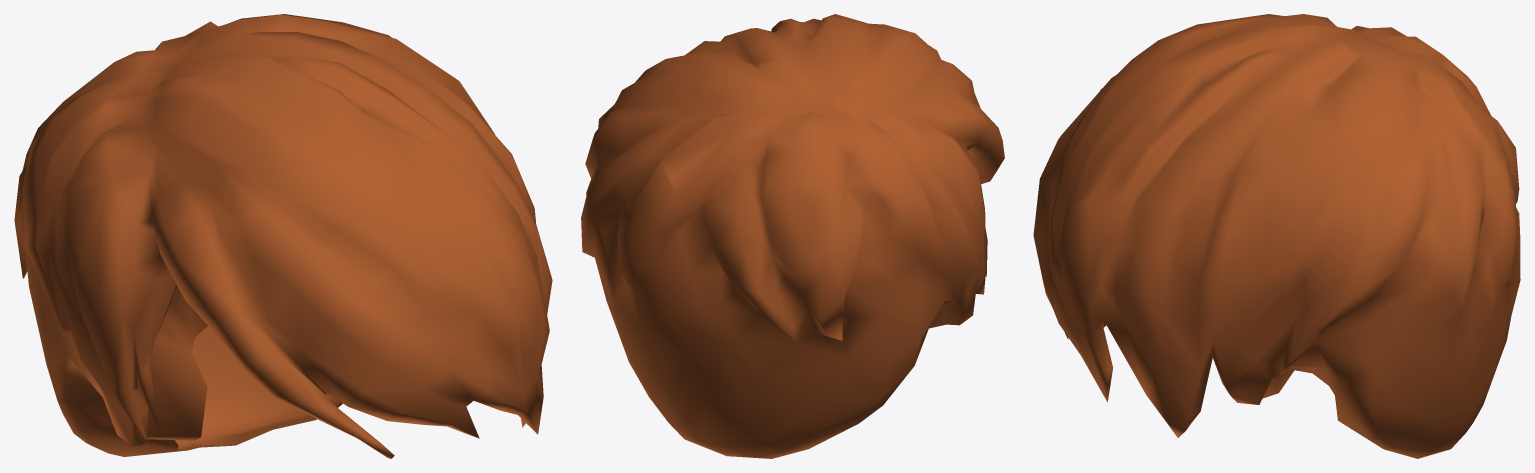
3 views of the same model, side by side, from view 1: azimuth 30°, elevation 25°; view 2: azimuth 150°, elevation 25°; view 3: azimuth 270°, elevation 25° (orthographic). The views are drawn at different scales.
Visible parts, largest first — view 1: Wolf3D_Hair.128; view 2: Wolf3D_Hair.128; view 3: Wolf3D_Hair.128.
Boxes of the visible parts, x1,y1,x2,y2 form: Wolf3D_Hair.128: [14, 14, 552, 458]; Wolf3D_Hair.128: [581, 14, 1004, 458]; Wolf3D_Hair.128: [1033, 14, 1520, 458].
Bounding box in the file's own units: 0.1971 × 0.1961 × 0.217.
1 material, 1 textured.
